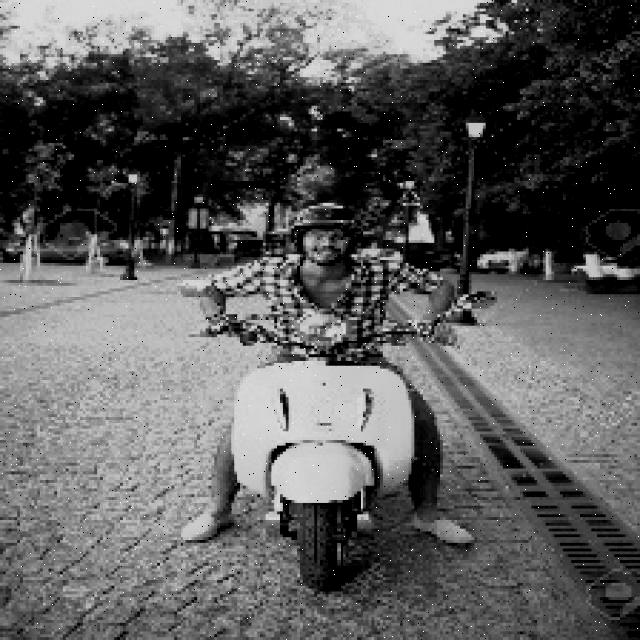Bike: (223, 326, 423, 580)
